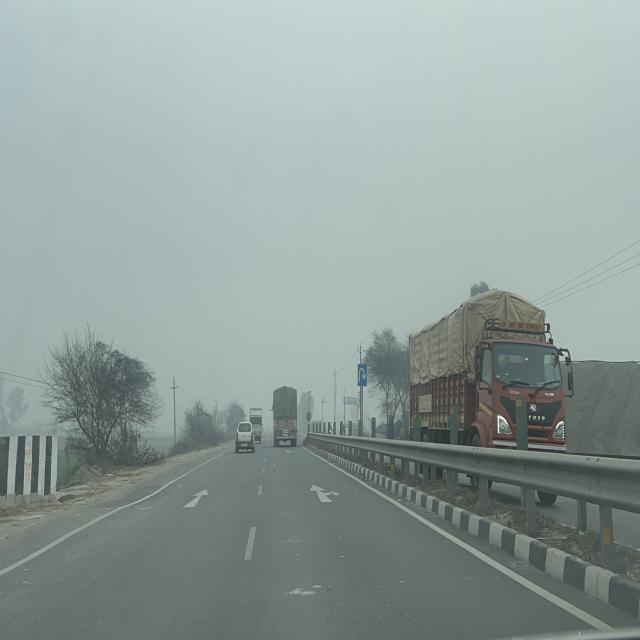U_TURN: (358, 364, 367, 386)
